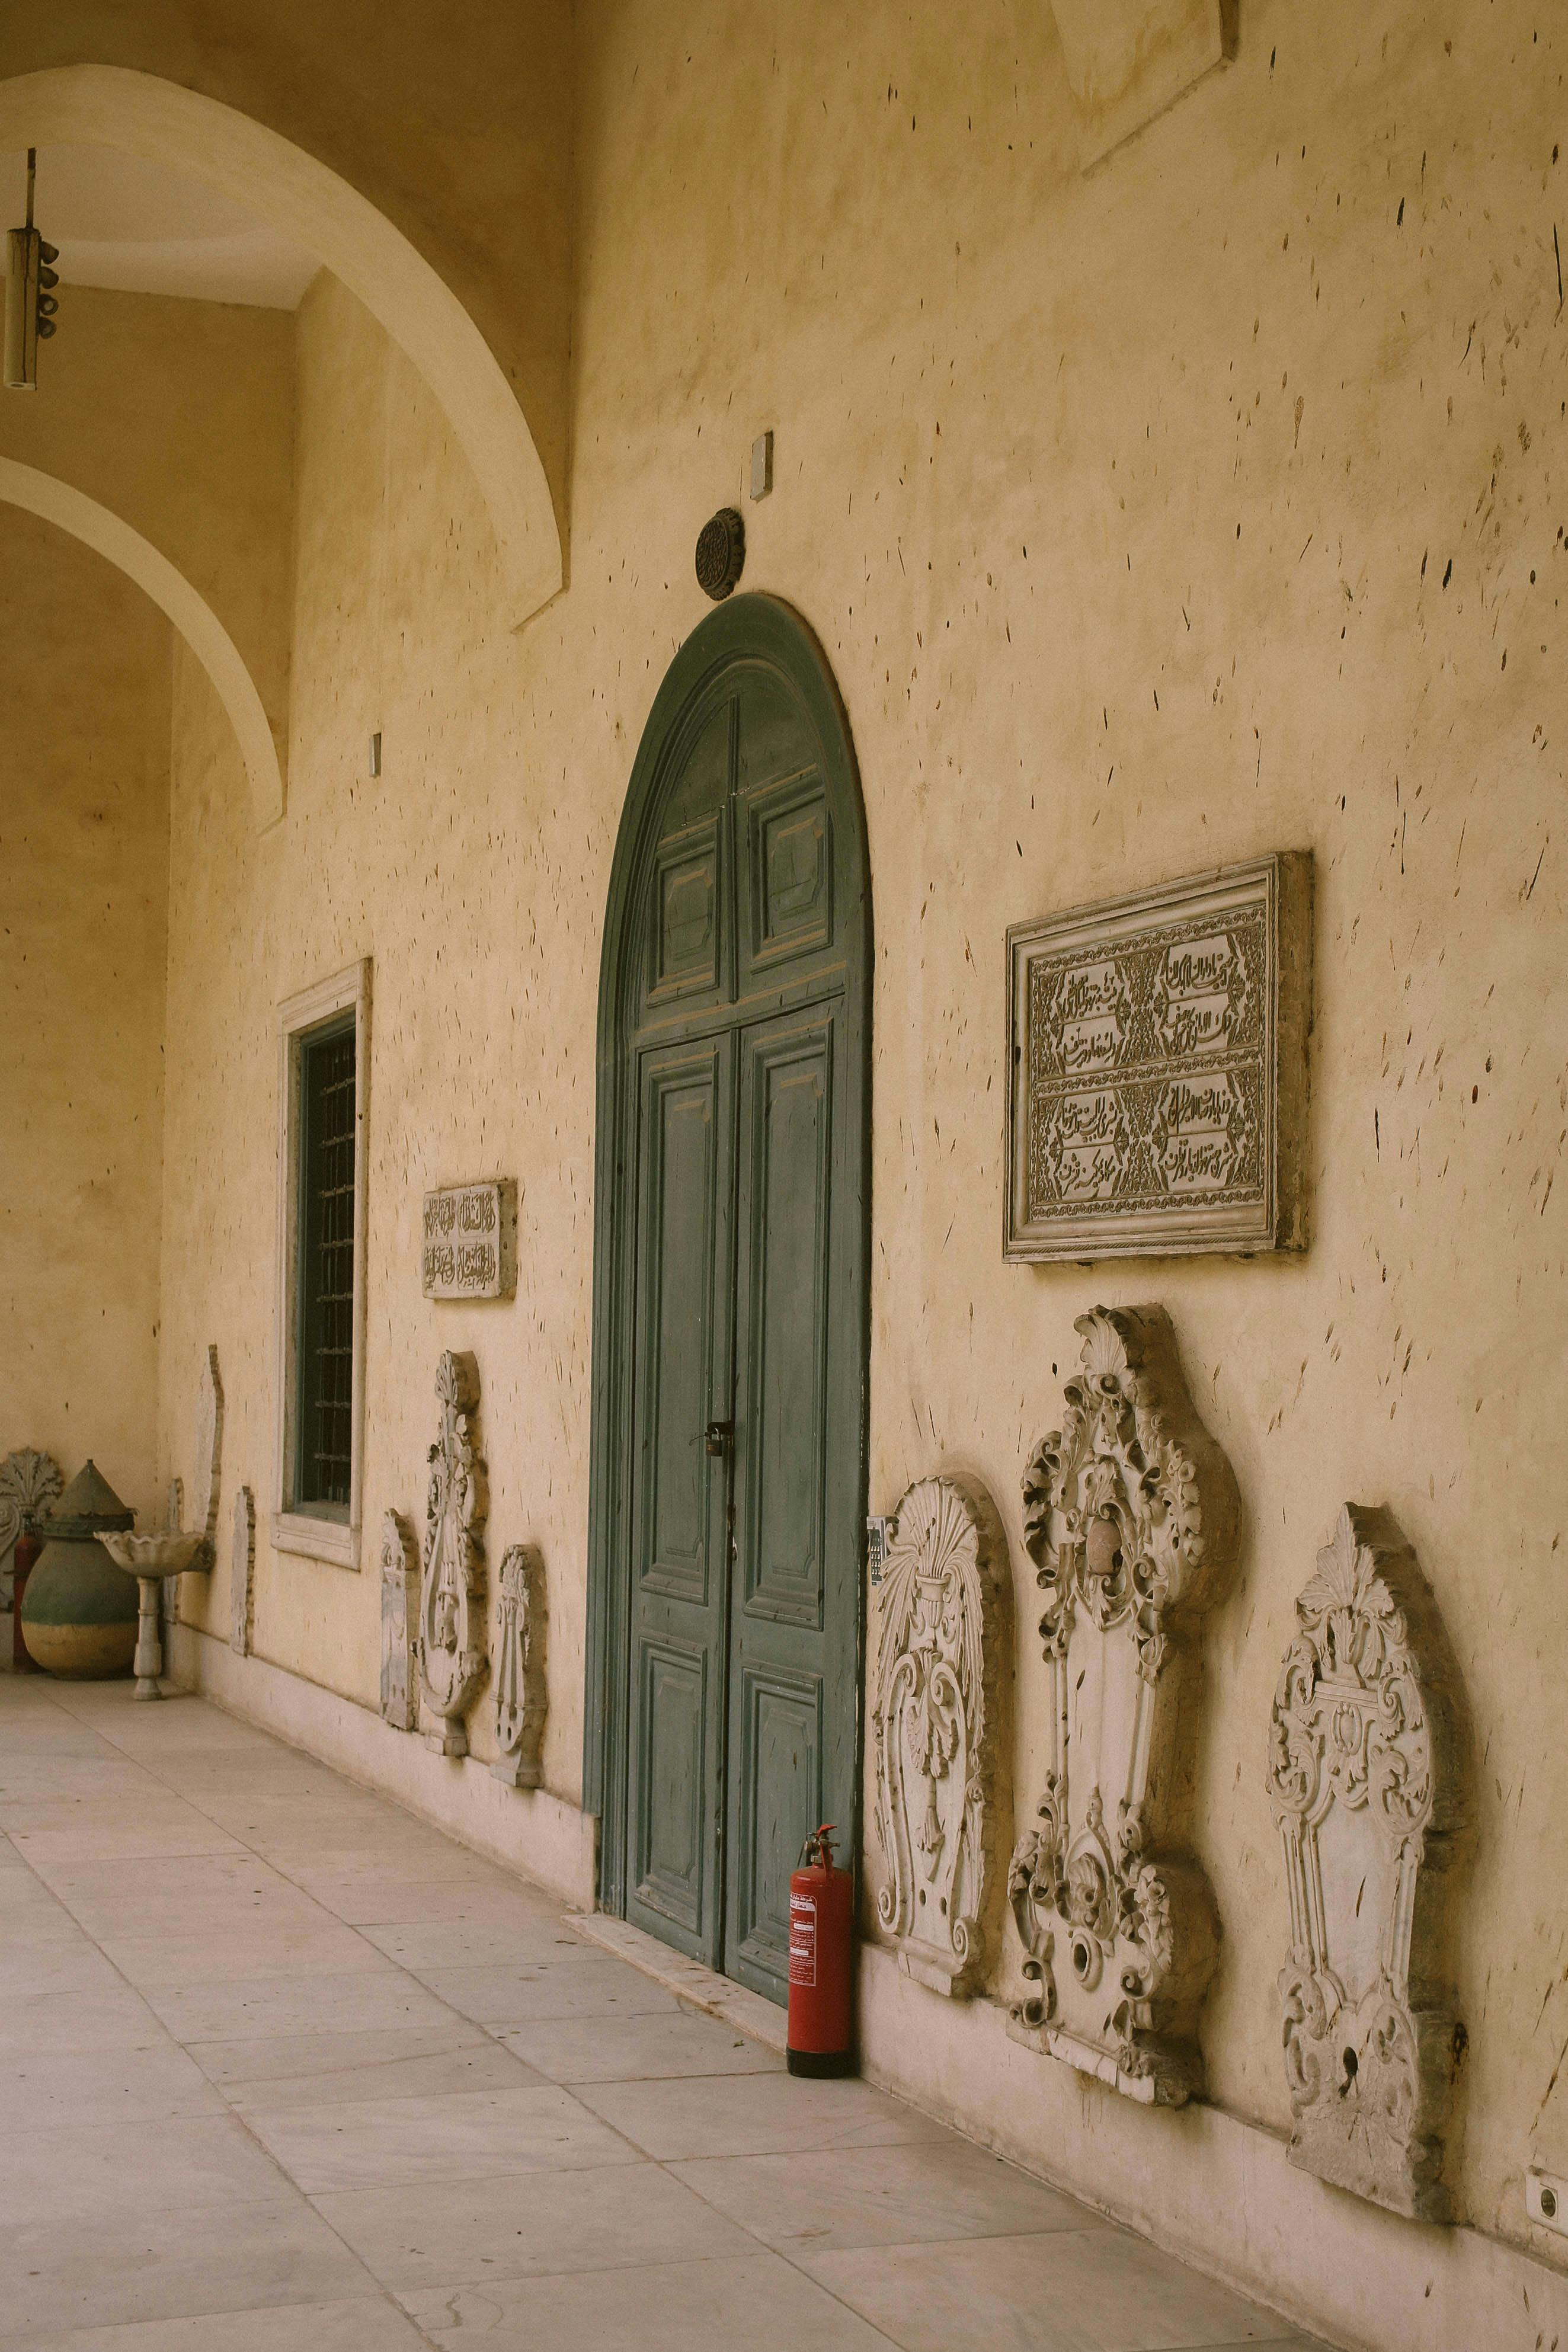extintor: (775, 1811, 873, 2089)
